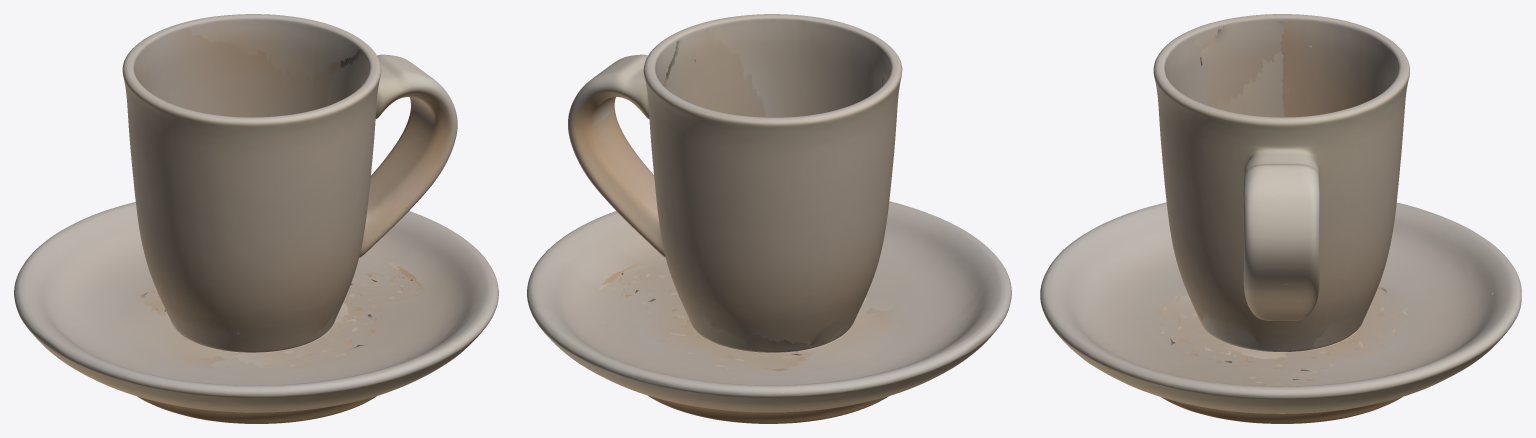
Rendered from foodify-mug.glb.
3 views of the same model, side by side, from view 1: azimuth 30°, elevation 25°; view 2: azimuth 150°, elevation 25°; view 3: azimuth 270°, elevation 25° (orthographic).
Visible parts, largest first — view 1: texture_pbr_v128; view 2: texture_pbr_v128; view 3: texture_pbr_v128.
Part boxes in pixels (x1,y1,x2,y2): texture_pbr_v128: [14, 14, 498, 423]; texture_pbr_v128: [527, 14, 1011, 423]; texture_pbr_v128: [1040, 14, 1521, 423].
Size of the model in its own units: 1.12 by 0.7622 by 1.12.
1 material, 1 textured.
